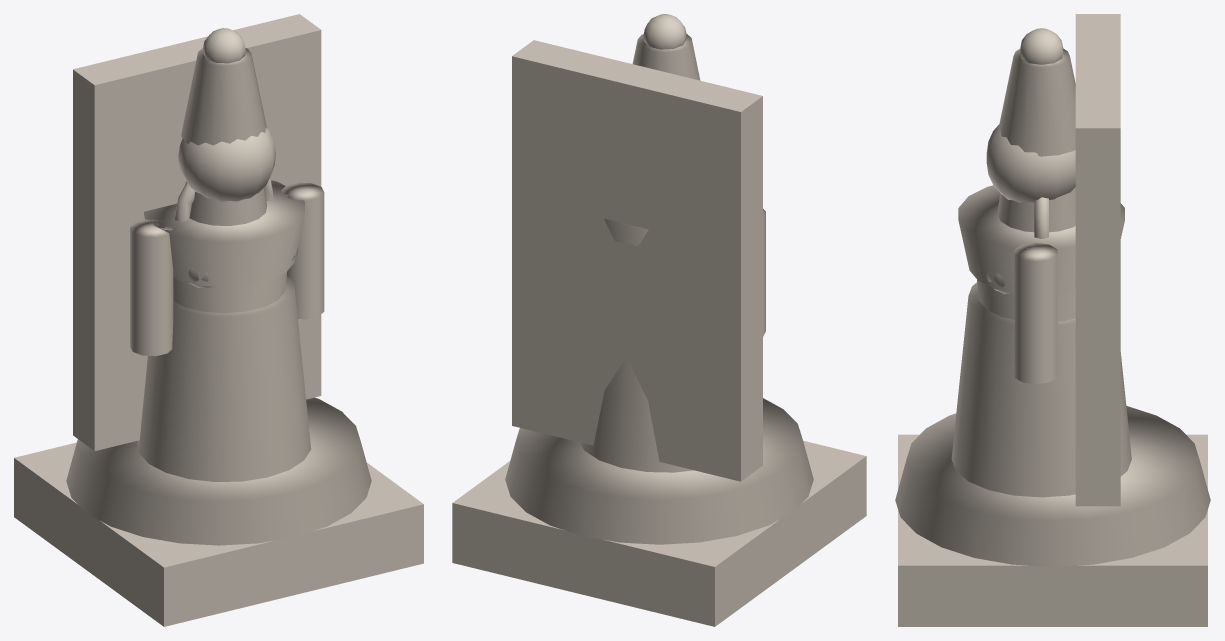
File: tuong-cham-pa.glb
3 renders of one model, left to right at view 1: azimuth 30°, elevation 25°; view 2: azimuth 150°, elevation 25°; view 3: azimuth 270°, elevation 25°, orthographic. The views are drawn at different scales.
Parts seen in each view (by area): view 1: TuongChamPa; view 2: TuongChamPa; view 3: TuongChamPa.
Part boxes in pixels (<box>): TuongChamPa: <box>14,14,423,626</box>; TuongChamPa: <box>452,14,866,626</box>; TuongChamPa: <box>895,14,1210,626</box>.
Size of the model in its own units: 0.56 by 1.04 by 0.56.
